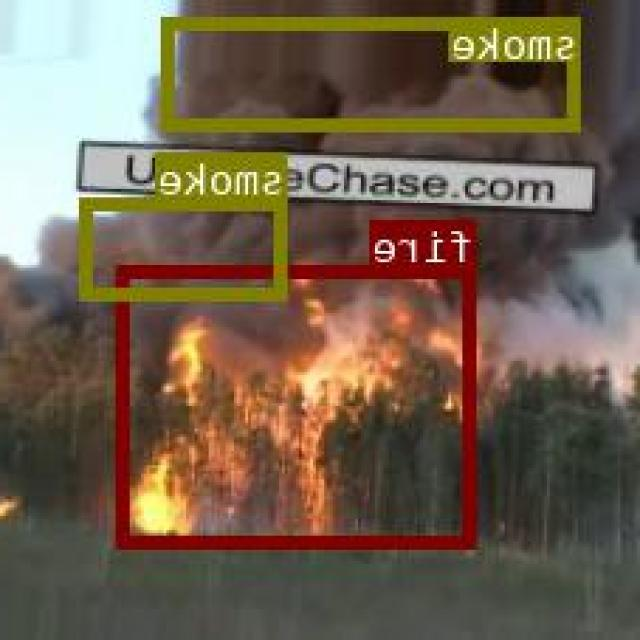fire: (120, 263, 478, 545)
smoke: (164, 14, 583, 128), (82, 196, 289, 298)
